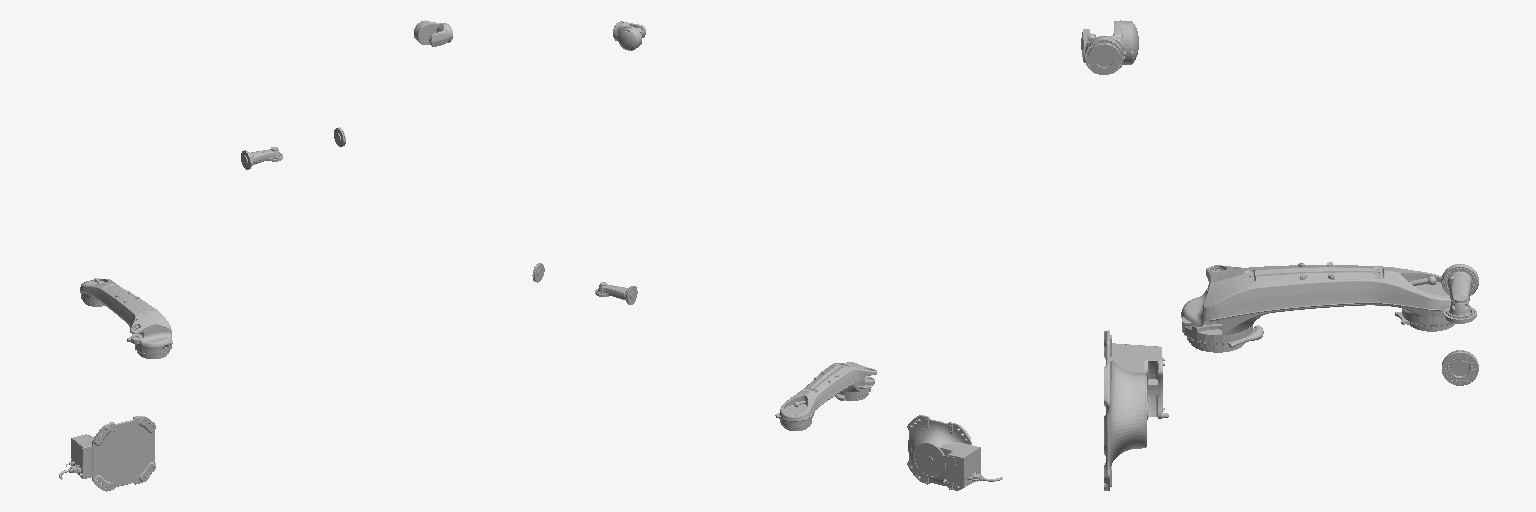
robot.urdf — kuka_kr300:
<?xml version="1.0"?>
<!-- =================================================================================== -->
<!-- |    This document was autogenerated by xacro from kr300r2700_2.xacro                | -->
<!-- |    EDITING THIS FILE BY HAND IS NOT RECOMMENDED                                 | -->
<!-- =================================================================================== -->
<!--Generates a urdf from the macro in kr300_macro.xacro -->
<robot name="kuka_kr300" xmlns:xacro="http://wiki.ros.org/xacro">
  <link name="base_link">
    <inertial>
      <origin rpy="0 0 0" xyz="-0.027804 0.00039112 0.14035"/>
      <mass value="1572.9"/>
      <inertia ixx="89.282" ixy="-0.47721" ixz="0.85562" iyy="107.51" iyz="0.0067576" izz="172.02"/>
    </inertial>
    <visual>
      <origin rpy="-1.570796327 0 0" xyz="0 0 0"/>
      <geometry>
        <mesh filename="package://kuka_kr300_support/meshes/kr300r2700_2/visual/base_link.dae"/>
      </geometry>
      <material name="">
        <color rgba="0.75294 0.75294 0.75294 1"/>
      </material>
    </visual>
    <collision>
      <origin rpy="-1.570796327 0 0" xyz="0 0 0"/>
      <geometry>
        <mesh filename="package://kuka_kr300_support/meshes/kr300r2700_2/collision/base_link.stl"/>
      </geometry>
    </collision>
  </link>
  <link name="link_1">
    <inertial>
      <origin rpy="0 0 0" xyz="-0.036811 -0.024697 0.56577"/>
      <mass value="1385.5"/>
      <inertia ixx="90.873" ixy="33.809" ixz="17.159" iyy="147.03" iyz="0.063634" izz="168.19"/>
    </inertial>
    <visual>
      <origin rpy="0 0 0" xyz="0 0 0"/>
      <geometry>
        <mesh filename="package://kuka_kr300_support/meshes/kr300r2700_2/visual/link_1.dae"/>
      </geometry>
      <material name="">
        <color rgba="0.75294 0.75294 0.75294 1"/>
      </material>
    </visual>
    <collision>
      <origin rpy="0 0 0" xyz="0 0 0"/>
      <geometry>
        <mesh filename="package://kuka_kr300_support/meshes/kr300r2700_2/collision/link_1.stl"/>
      </geometry>
    </collision>
  </link>
  <link name="link_2">
    <inertial>
      <origin rpy="0 0 0" xyz="0.016923 -0.19196 0.44751"/>
      <mass value="958.62"/>
      <inertia ixx="180.42" ixy="-0.83462" ixz="0.32549" iyy="177.68" iyz="-20.82" izz="20.495"/>
    </inertial>
    <visual>
      <origin rpy="-1.570796327 0 0" xyz="0 0 0"/>
      <geometry>
        <mesh filename="package://kuka_kr300_support/meshes/kr300r2700_2/visual/link_2.dae"/>
      </geometry>
      <material name="">
        <color rgba="0.75294 0.75294 0.75294 1"/>
      </material>
    </visual>
    <collision>
      <origin rpy="0 0 0" xyz="0 0 0"/>
      <geometry>
        <mesh filename="package://kuka_kr300_support/meshes/kr300r2700_2/collision/link_2.stl"/>
      </geometry>
    </collision>
  </link>
  <link name="link_3">
    <inertial>
      <origin rpy="0 0 0" xyz="0.18842 0.18344 -0.042799"/>
      <mass value="710.03"/>
      <inertia ixx="11.887" ixy="-0.12154" ixz="-1.3604" iyy="98.805" iyz="-0.056505" izz="96.251"/>
    </inertial>
    <visual>
      <origin rpy="-1.570796327 0 0" xyz="0 0 0"/>
      <geometry>
        <mesh filename="package://kuka_kr300_support/meshes/kr300r2700_2/visual/link_3.dae"/>
      </geometry>
      <material name="">
        <color rgba="0.75294 0.75294 0.75294 1"/>
      </material>
    </visual>
    <collision>
      <origin rpy="0 0 0" xyz="0 0 0"/>
      <geometry>
        <mesh filename="package://kuka_kr300_support/meshes/kr300r2700_2/collision/link_3.stl"/>
      </geometry>
    </collision>
  </link>
  <link name="link_4">
    <inertial>
      <origin rpy="0 0 0" xyz="0.27146 -0.007326 5.2775E-05"/>
      <mass value="173.73"/>
      <inertia ixx="1.8001" ixy="-0.18515" ixz="0.00051232" iyy="5.514" iyz="0.00070469" izz="6.3498"/>
    </inertial>
    <visual>
      <origin rpy="-1.570796327 0 0" xyz="0 0 0"/>
      <geometry>
        <mesh filename="package://kuka_kr300_support/meshes/kr300r2700_2/visual/link_4.dae"/>
      </geometry>
      <material name="">
        <color rgba="0.75294 0.75294 0.75294 1"/>
      </material>
    </visual>
    <collision>
      <origin rpy="0 0 0" xyz="0 0 0"/>
      <geometry>
        <mesh filename="package://kuka_kr300_support/meshes/kr300r2700_2/collision/link_4.stl"/>
      </geometry>
    </collision>
  </link>
  <link name="link_5">
    <inertial>
      <origin rpy="0 0 0" xyz="0.04379 0.025984 3.5491E-07"/>
      <mass value="72.17"/>
      <inertia ixx="0.3938" ixy="-0.085332" ixz="1.7223E-06" iyy="0.68945" iyz="-7.0292E-06" izz="0.67292"/>
    </inertial>
    <visual>
      <origin rpy="-1.570796327 0 0" xyz="0 0 0"/>
      <geometry>
        <mesh filename="package://kuka_kr300_support/meshes/kr300r2700_2/visual/link_5.dae"/>
      </geometry>
      <material name="">
        <color rgba="0.75294 0.75294 0.75294 1"/>
      </material>
    </visual>
    <collision>
      <origin rpy="0 0 0" xyz="0 0 0"/>
      <geometry>
        <mesh filename="package://kuka_kr300_support/meshes/kr300r2700_2/collision/link_5.stl"/>
      </geometry>
    </collision>
  </link>
  <link name="link_6">
    <inertial>
      <origin rpy="0 0 0" xyz="-0.017956 -1.5237E-05 0.00015484"/>
      <mass value="6.3154"/>
      <inertia ixx="0.031746" ixy="1.7673E-07" ixz="-6.6558E-06" iyy="0.016686" iyz="1.4304E-07" izz="0.016723"/>
    </inertial>
    <visual>
      <origin rpy="0 0 0" xyz="0 0 0"/>
      <geometry>
        <mesh filename="package://kuka_kr300_support/meshes/kr300r2700_2/visual/link_6.dae"/>
      </geometry>
      <material name="">
        <color rgba="0.75294 0.75294 0.75294 1"/>
      </material>
    </visual>
    <collision>
      <origin rpy="0 0 0" xyz="0 0 0"/>
      <geometry>
        <mesh filename="package://kuka_kr300_support/meshes/kr300r2700_2/collision/link_6.stl"/>
      </geometry>
    </collision>
  </link>
  <link name="tool0"/>
  <joint name="joint_a1" type="revolute">
    <origin rpy="0 0 0" xyz="-0.00262 0.00097586 0.33099"/>
    <parent link="base_link"/>
    <child link="link_1"/>
    <axis xyz="0 0 1"/>
    <limit effort="0" lower="-3.228859205" upper="3.228859205" velocity="2.146755039"/>
  </joint>
  <joint name="joint_a2" type="revolute">
    <origin rpy="0 0 0" xyz="0.35277 -0.037476 0.4192"/>
    <parent link="link_1"/>
    <child link="link_2"/>
    <axis xyz="0 1 0"/>
    <limit effort="0" lower="-0.785398185" upper="1.483529905" velocity="2.007128695"/>
  </joint>
  <joint name="joint_a3" type="revolute">
    <origin rpy="0 0 0" xyz="-9.8483E-05 -0.1475 1.2499"/>
    <parent link="link_2"/>
    <child link="link_3"/>
    <axis xyz="0 1 0"/>
    <limit effort="0" lower="-3.66519153" upper="1.134464045" velocity="1.954768816"/>
  </joint>
  <joint name="joint_a4" type="revolute">
    <origin rpy="0 0 0" xyz="0.95795 0.184 -0.055059"/>
    <parent link="link_3"/>
    <child link="link_4"/>
    <axis xyz="1 0 0"/>
    <limit effort="0" lower="-6.10865255" upper="6.10865255" velocity="3.124139447"/>
  </joint>
  <joint name="joint_a5" type="revolute">
    <origin rpy="0 0 0" xyz="0.542 0 0"/>
    <parent link="link_4"/>
    <child link="link_5"/>
    <axis xyz="0 1 0"/>
    <limit effort="0" lower="-2.181661625" upper="2.181661625" velocity="3.001966396"/>
  </joint>
  <joint name="joint_a6" type="revolute">
    <origin rpy="0 0 0" xyz="0.1925 0 0"/>
    <parent link="link_5"/>
    <child link="link_6"/>
    <axis xyz="1 0 0"/>
    <limit effort="0" lower="-6.10865255" upper="6.10865255" velocity="3.822271167"/>
  </joint>
  <joint name="link_6-tool0" type="fixed">
    <parent link="link_6"/>
    <child link="tool0"/>
    <origin rpy="0 0 0" xyz="0.0375 0 -0.00023924"/>
  </joint>
  <link name="Link1"/>
  <joint name="Link1-link_1" type="fixed">
    <parent link="link_1"/>
    <child link="Link1"/>
    <origin rpy="0 0 0" xyz="0 0 0"/>
  </joint>
</robot>

--- Facts derived from the render (not from the file) ---
3 views of the same robot in one strip: view 1: azimuth 30°, elevation 25°; view 2: azimuth 150°, elevation 25°; view 3: azimuth 270°, elevation 25° (orthographic).
Model kuka_kr300 with 9 links and 8 joints (6 revolute, 2 fixed), rooted at base_link, posed every joint at zero.
Links seen in each view (by area): view 1: base_link, link_2, link_6, link_4; view 2: base_link, link_2, link_6, link_4; view 3: link_2, base_link, link_6, link_4, link_5.
Boxes of the visible links, x1,y1,x2,y2 form: base_link: (59,416,155,491); link_2: (80,278,172,358); link_6: (414,20,452,46); link_4: (241,147,282,169); base_link: (907,415,1002,490); link_2: (775,362,876,430); link_6: (613,21,645,50); link_4: (595,282,637,304); link_2: (1181,262,1454,352); base_link: (1104,330,1168,490); link_6: (1081,20,1138,74); link_4: (1441,264,1478,323); link_5: (1442,350,1478,385).
Size in the robot's own frame: 4.56 by 2.14 by 4.35 metres.
5 mesh visuals loaded from 7 distinct referenced files (5 Collada DAE); not drawn: 2 (reference not matched to a file when rendering).